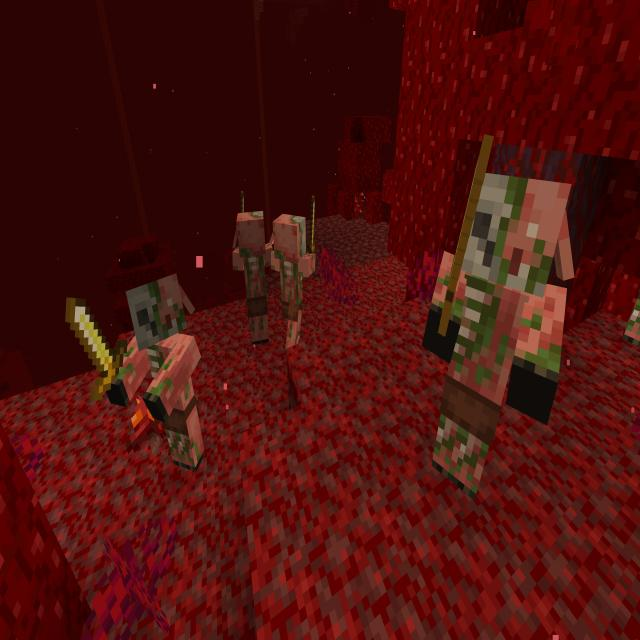Zombified Piglin: (420, 129, 578, 499), (62, 269, 206, 477), (268, 191, 318, 359), (231, 188, 275, 349)
